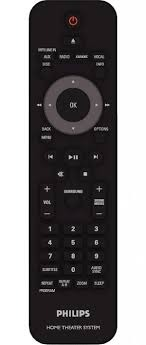remote control: (28, 5, 118, 345)
